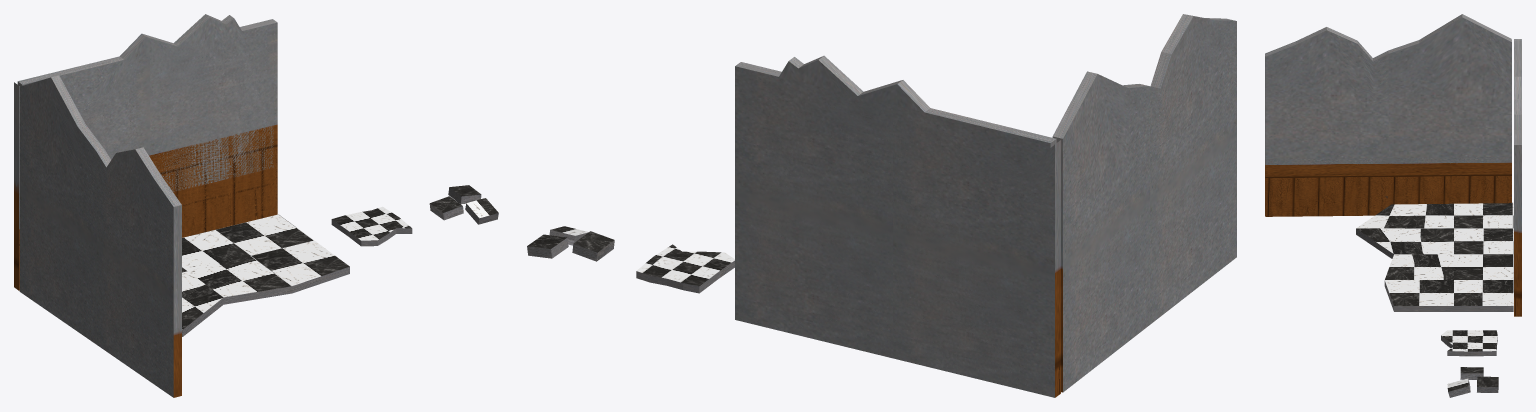
The model's file is Laboratory_props2.fbx.
3 views of the same model, side by side, from view 1: azimuth 30°, elevation 25°; view 2: azimuth 150°, elevation 25°; view 3: azimuth 270°, elevation 25° (orthographic). The views are drawn at different scales.
Parts seen in each view (by area): view 1: parede_2, parede_inteira, parede_1, Floor, Break Floor, Break_Floor_2; view 2: parede_inteira, parede_1, parede_2, Break Floor, Break_Floor_2; view 3: parede_2, Floor, parede_inteira, Break Floor, Break_Floor_2, parede_1.
Boxes of the visible parts, <box> form: parede_2: <box>19,75,181,397</box>; parede_inteira: <box>17,19,277,237</box>; parede_1: <box>14,14,273,290</box>; Floor: <box>182,214,349,336</box>; Break Floor: <box>331,206,412,246</box>; Break_Floor_2: <box>429,185,498,224</box>; parede_inteira: <box>735,62,1056,396</box>; parede_1: <box>739,55,1060,397</box>; parede_2: <box>1052,14,1236,392</box>; Break Floor: <box>636,244,734,293</box>; Break_Floor_2: <box>527,226,614,261</box>; parede_2: <box>1265,14,1511,216</box>; Floor: <box>1356,202,1513,311</box>; parede_inteira: <box>1514,40,1521,316</box>; Break Floor: <box>1441,330,1497,356</box>; Break_Floor_2: <box>1447,367,1498,397</box>; parede_1: <box>1514,39,1521,130</box>.
Size of the model in its own units: 1728 by 914 by 1040.
